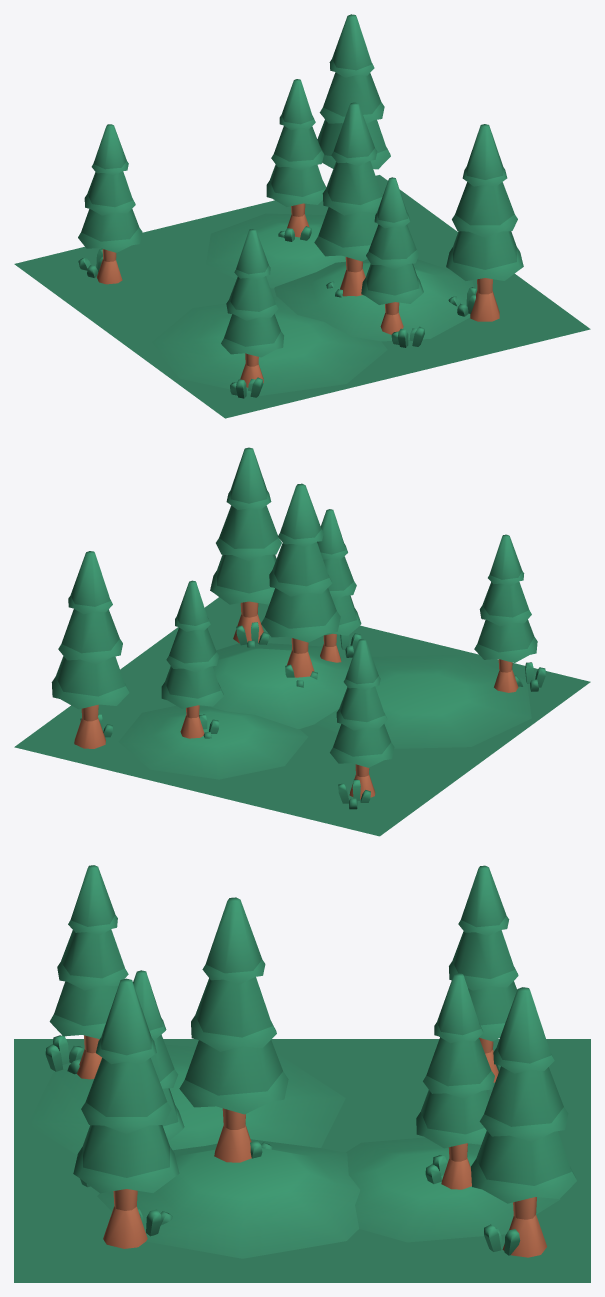
Rendered from decoration-forest.fbx.
The picture shows the model from 3 angles, top to bottom: view 1: azimuth 30°, elevation 25°; view 2: azimuth 150°, elevation 25°; view 3: azimuth 270°, elevation 25°; orthographic projection. The views are drawn at different scales.
Visible parts, largest first — view 1: decoration-forest; view 2: decoration-forest; view 3: decoration-forest.
Boxes of the visible parts, x1,y1,x2,y2 form: decoration-forest: (14,14,590,418); decoration-forest: (14,447,590,836); decoration-forest: (14,865,590,1282).
Size of the model in its own units: 10 by 5.33 by 10.
